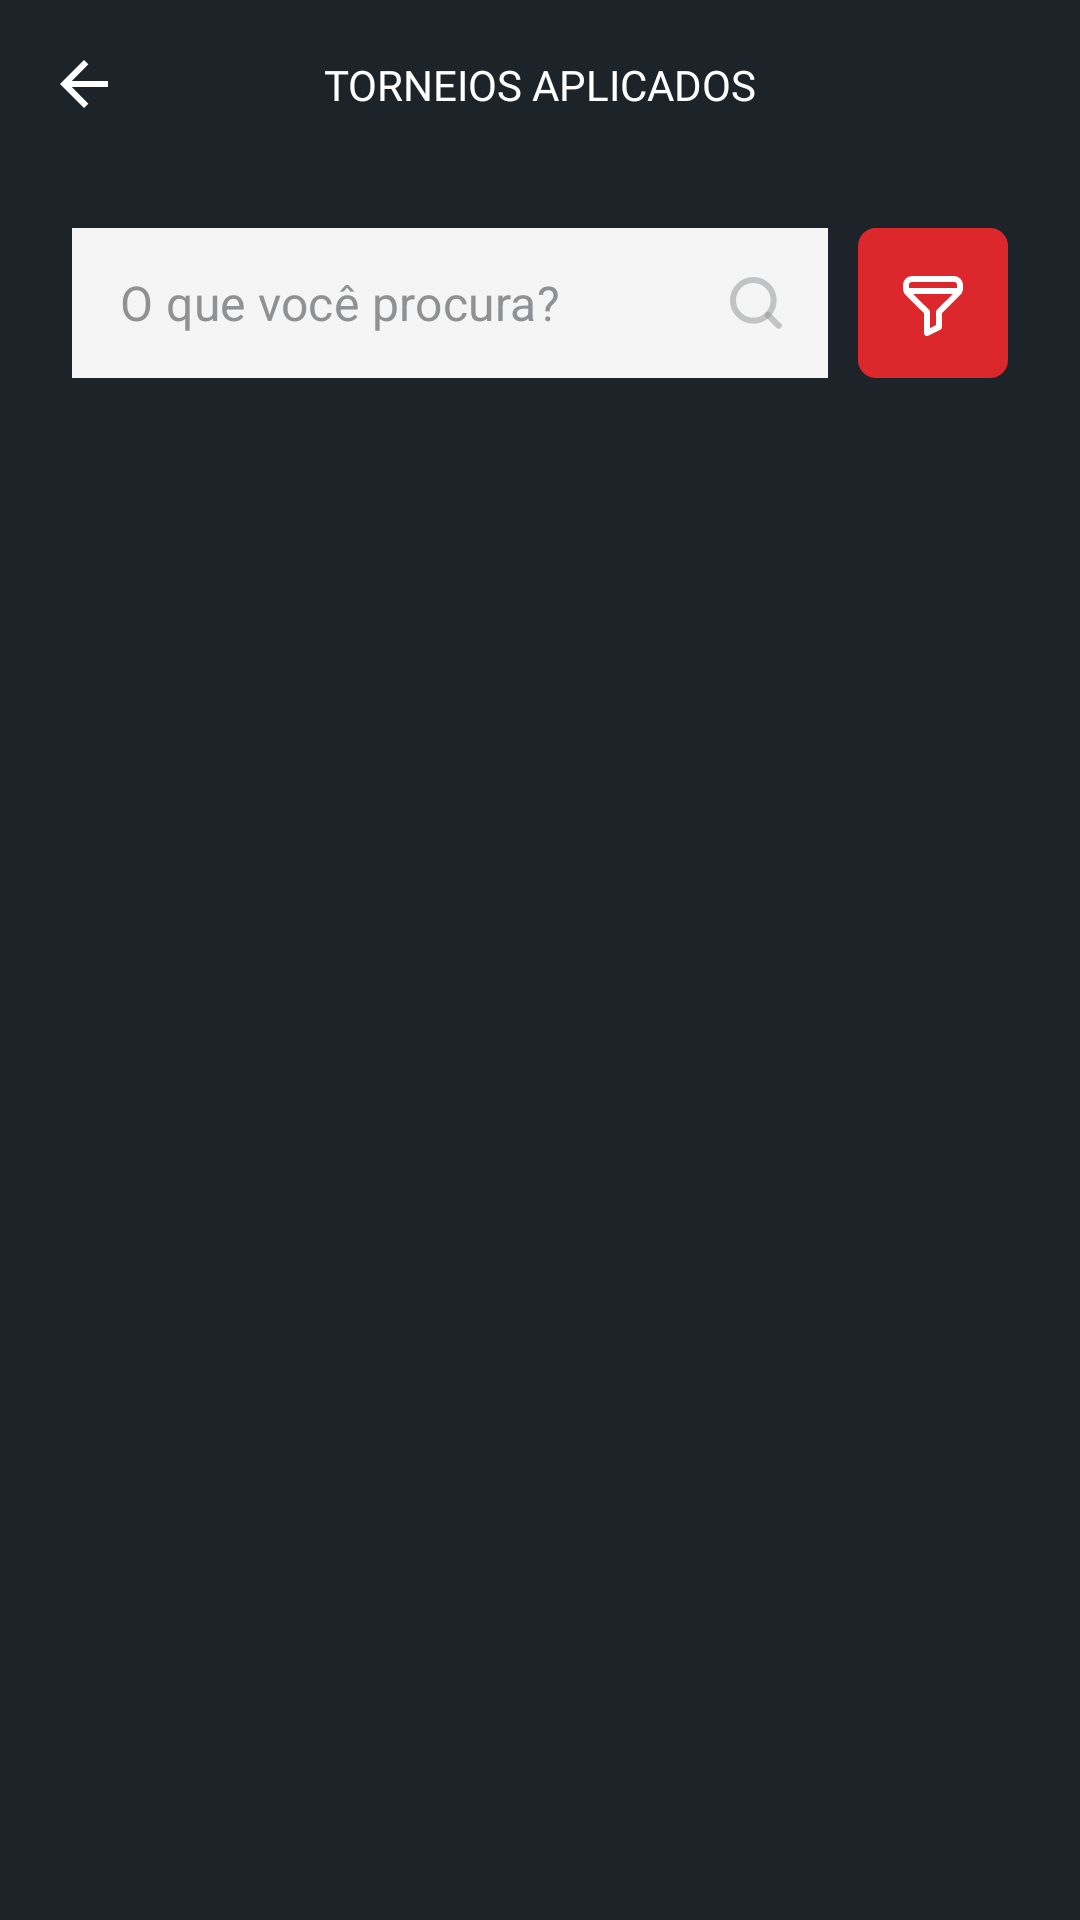

Icons on this 1080 x 1920 Android screen, each with its box as (x1, y1, x2, y2):
filter: (858, 228, 1008, 378)
left arrow: (60, 60, 108, 108)
